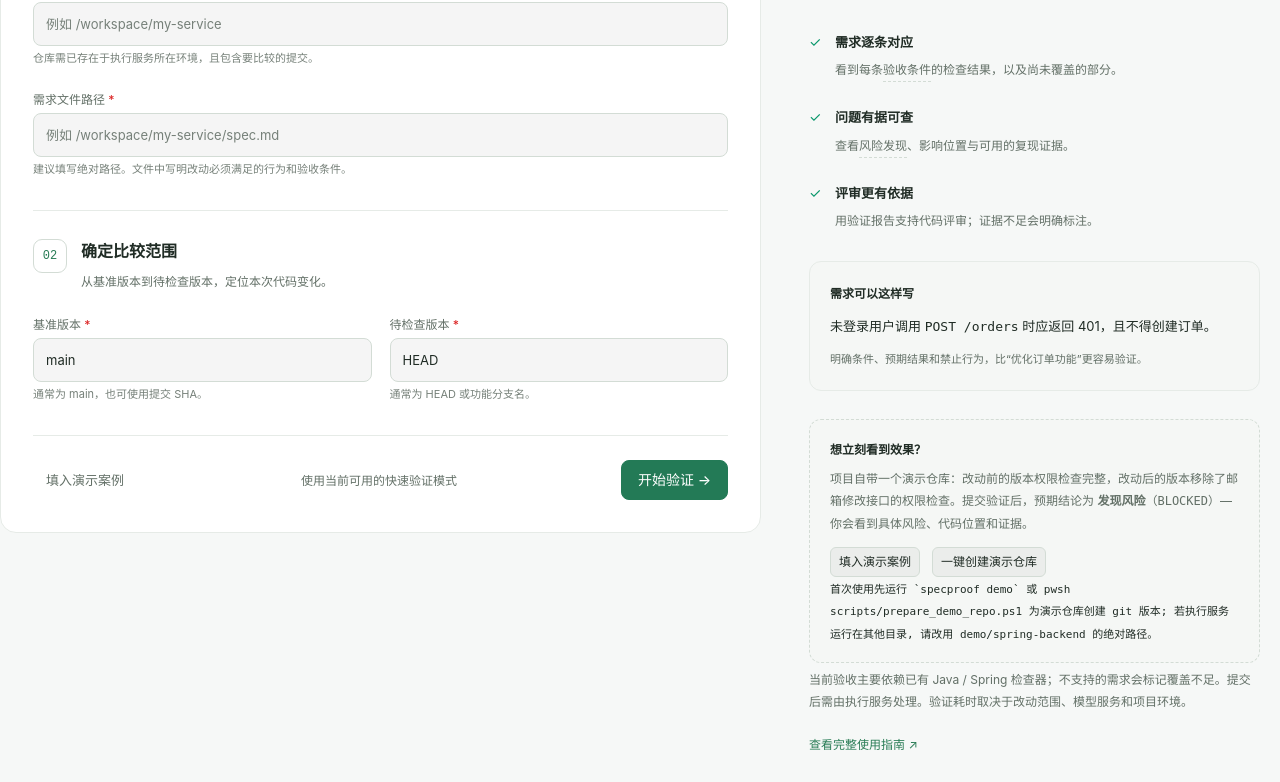
Test: NewVerification demo-repo creation (#241b) › surfaces a genuine setup error verbatim rather than a fake success
The width and height of the screenshot is (1280, 782).
(page scrolled)
Click the button "一键创建演示仓库".
click(989, 562)  # box [932, 547, 1046, 577]
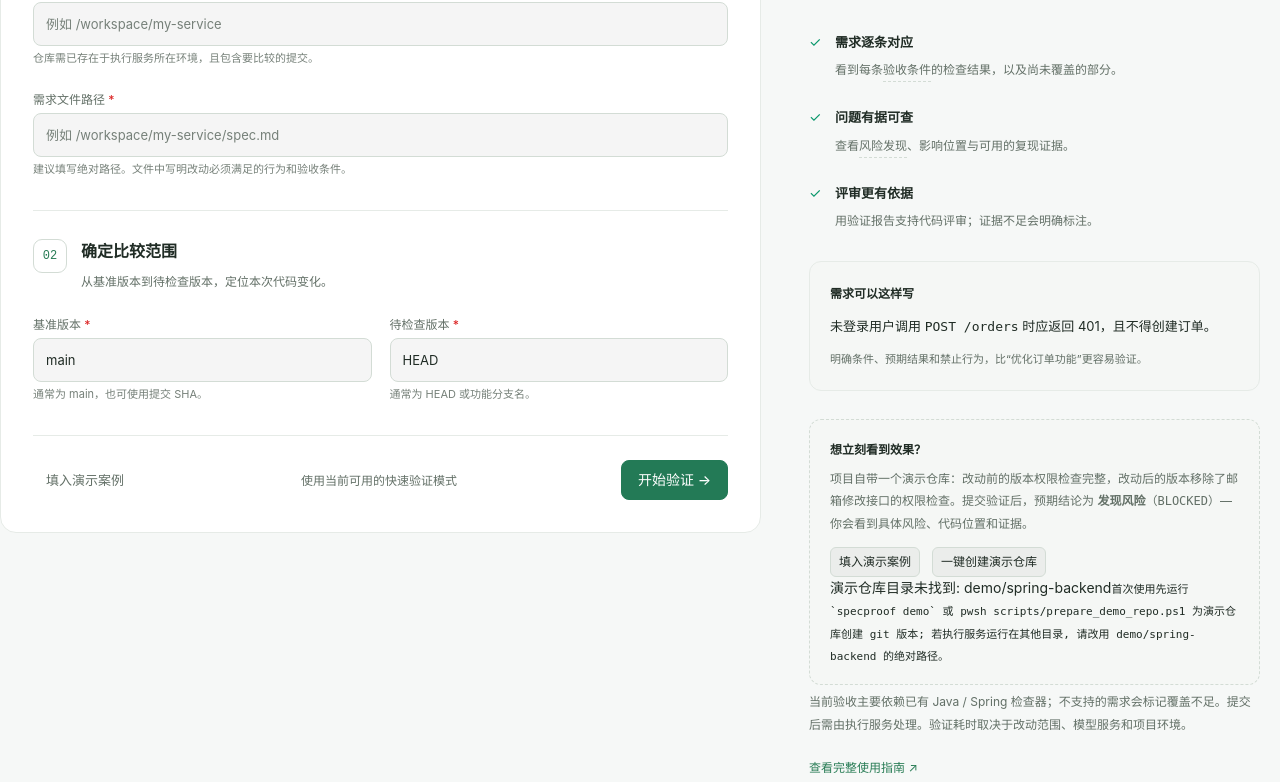
Expected: the text "演示仓库目录未找到: demo/spring-backend" is shown, [830, 579, 1111, 596]
